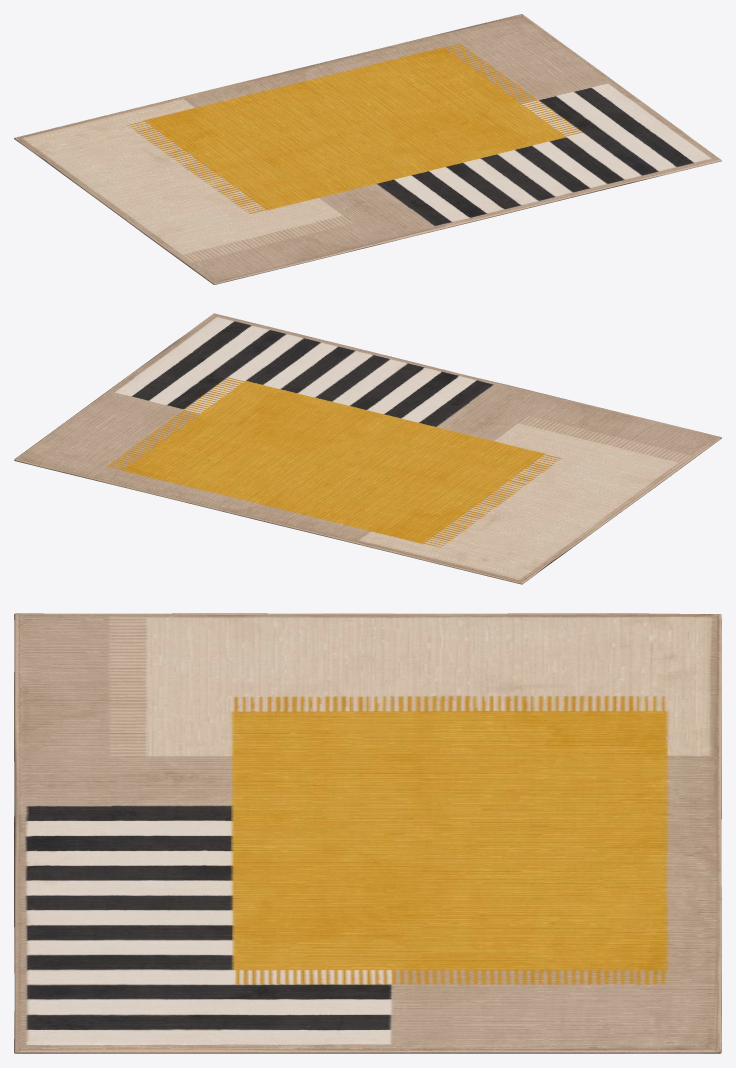
File: elsystem_rug_low_pile_multicolor.glb
The picture shows the model from 3 angles, top to bottom: view 1: azimuth 30°, elevation 25°; view 2: azimuth 150°, elevation 25°; view 3: azimuth 270°, elevation 25°; orthographic projection. The views are drawn at different scales.
Parts seen in each view (by area): view 1: ASY_ART_30580922_S01_NV01; view 2: ASY_ART_30580922_S01_NV01; view 3: ASY_ART_30580922_S01_NV01.
Part boxes in pixels (x1=…): ASY_ART_30580922_S01_NV01: x1=14, y1=14, x2=721, y2=284; ASY_ART_30580922_S01_NV01: x1=14, y1=313, x2=721, y2=584; ASY_ART_30580922_S01_NV01: x1=14, y1=613, x2=721, y2=1053.
Bounding box in the file's own units: 1.95 × 0.00667 × 1.33.
Materials: 1 (1 with a texture image).
